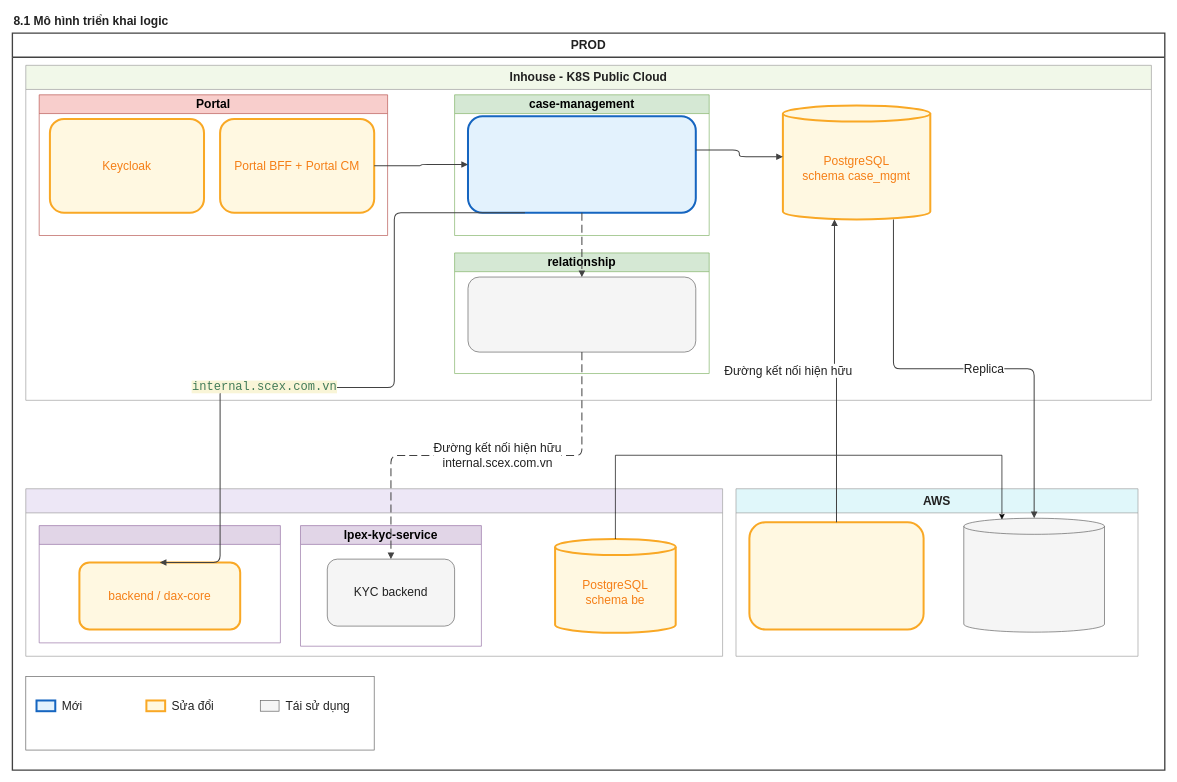
This 1177x782 diagram has some shape labels left out. The box of each missing label's shape, as (x1, y1, x2, y2) in pixels:
Chú giải: (25, 676, 374, 750)
cm-backend tối thiểu 2 replica: (467, 115, 696, 213)
Glue TM jobs: (748, 521, 924, 630)
lpex-be: (39, 525, 280, 643)
RDS replica: (963, 518, 1104, 632)
SCEX Account: (467, 276, 696, 352)
SCEX Core: (25, 488, 723, 656)
